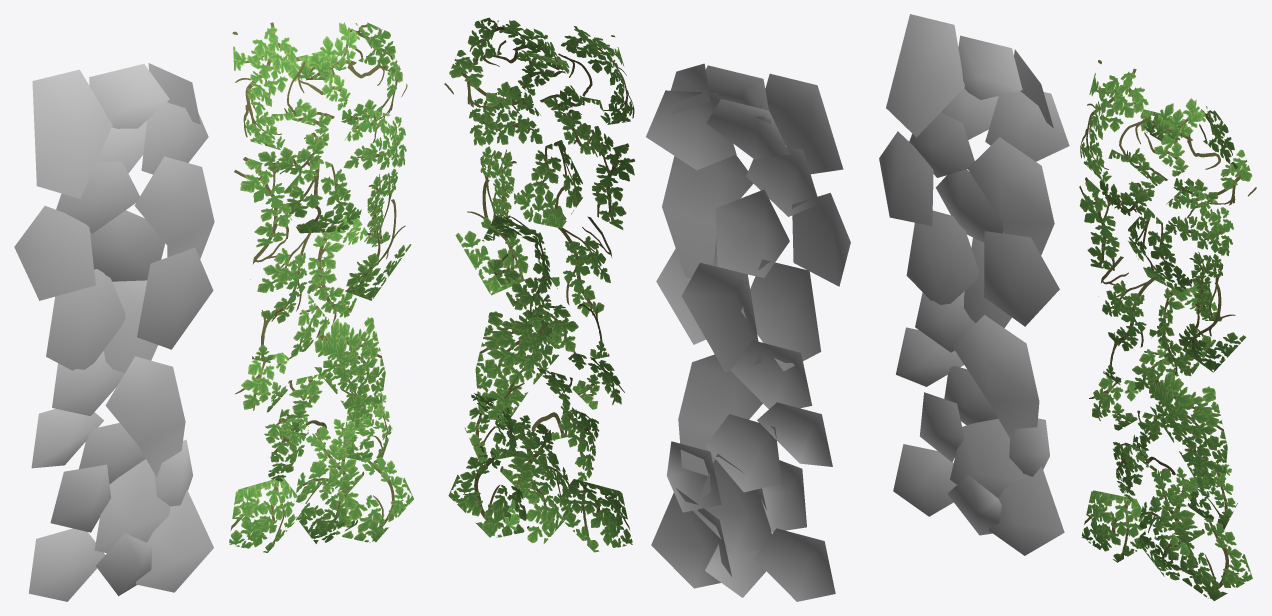
Rendered from Ivy Plants.fbx.
3 views of the same model, side by side, from view 1: azimuth 30°, elevation 25°; view 2: azimuth 150°, elevation 25°; view 3: azimuth 330°, elevation 25° (orthographic). The views are drawn at different scales.
Visible parts, largest first — view 1: Ivy_Red, Ivy_Green; view 2: Ivy_Red, Ivy_Green; view 3: Ivy_Red, Ivy_Green.
Part boxes in pixels (bbox=[...]): Ivy_Red: bbox=[14, 63, 214, 601]; Ivy_Green: bbox=[229, 22, 413, 552]; Ivy_Red: bbox=[646, 63, 850, 601]; Ivy_Green: bbox=[444, 17, 635, 552]; Ivy_Red: bbox=[879, 14, 1069, 555]; Ivy_Green: bbox=[1079, 60, 1256, 600].
Bounding box in the file's own units: 81.07 × 104 × 8.66.
